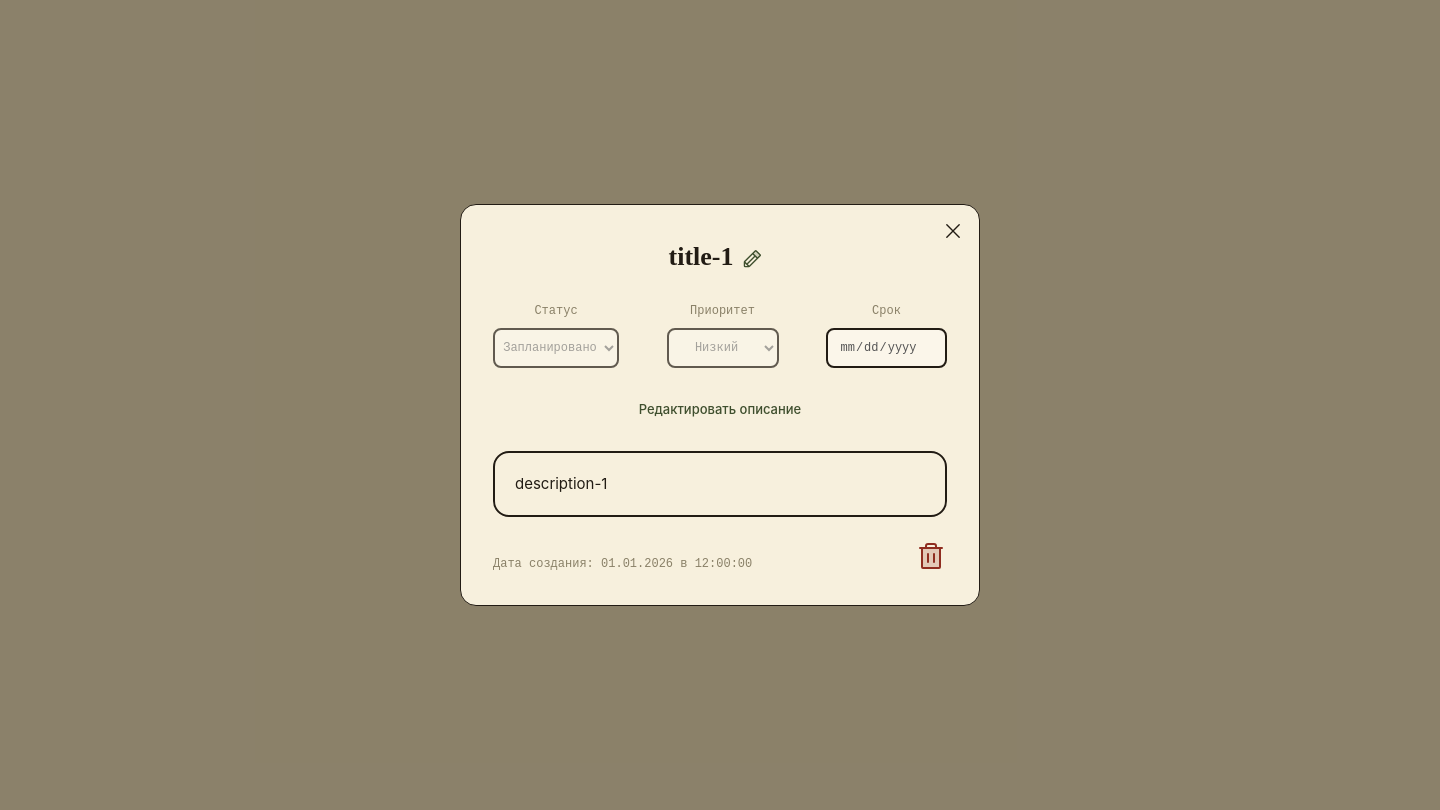
Test: TaskDetailsModal › disables editable controls when isDisabled === true
Click the button named "Редактировать название" at (752, 259), box 734,240 -> 772,278
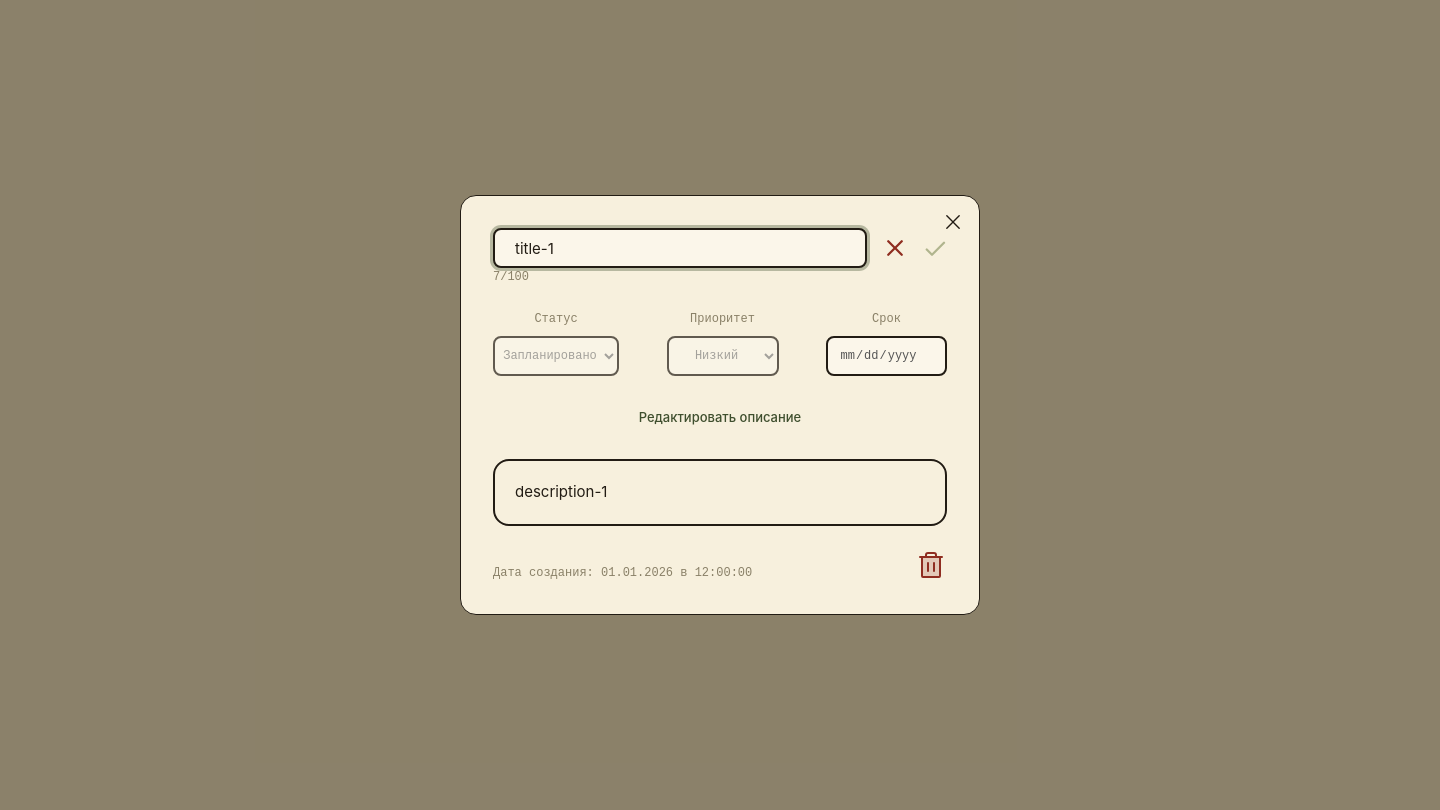
Expected: the button named "Сохранить новое название" is disabled, 923,236 -> 947,260
Click the button "Редактировать описание" at (720, 418), box 631,400 -> 809,435
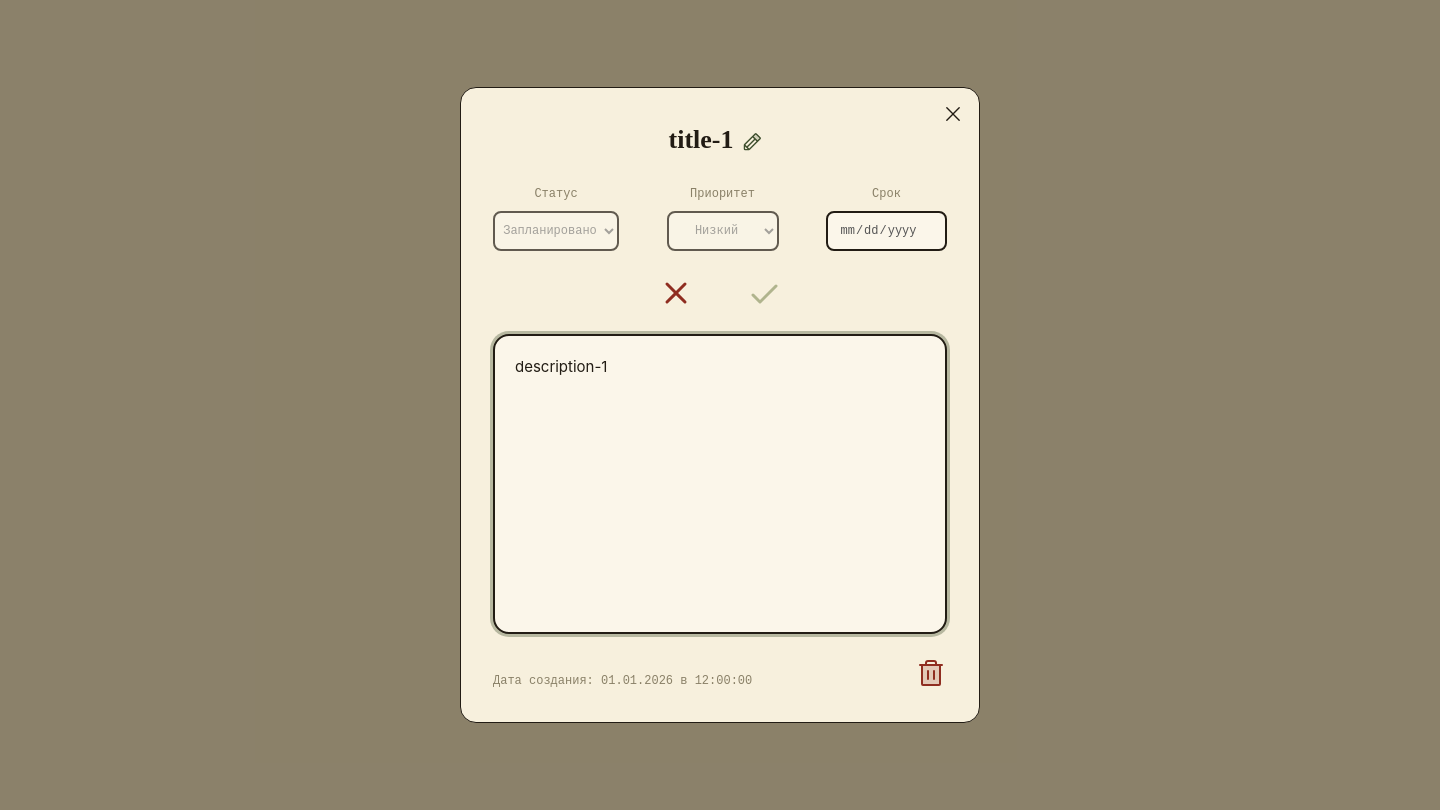
Expected: the dropdown labelled "Статус" is disabled, 493,211 -> 619,251
Expected: the button named "Сохранить новое описание" is disabled, 740,275 -> 788,310
